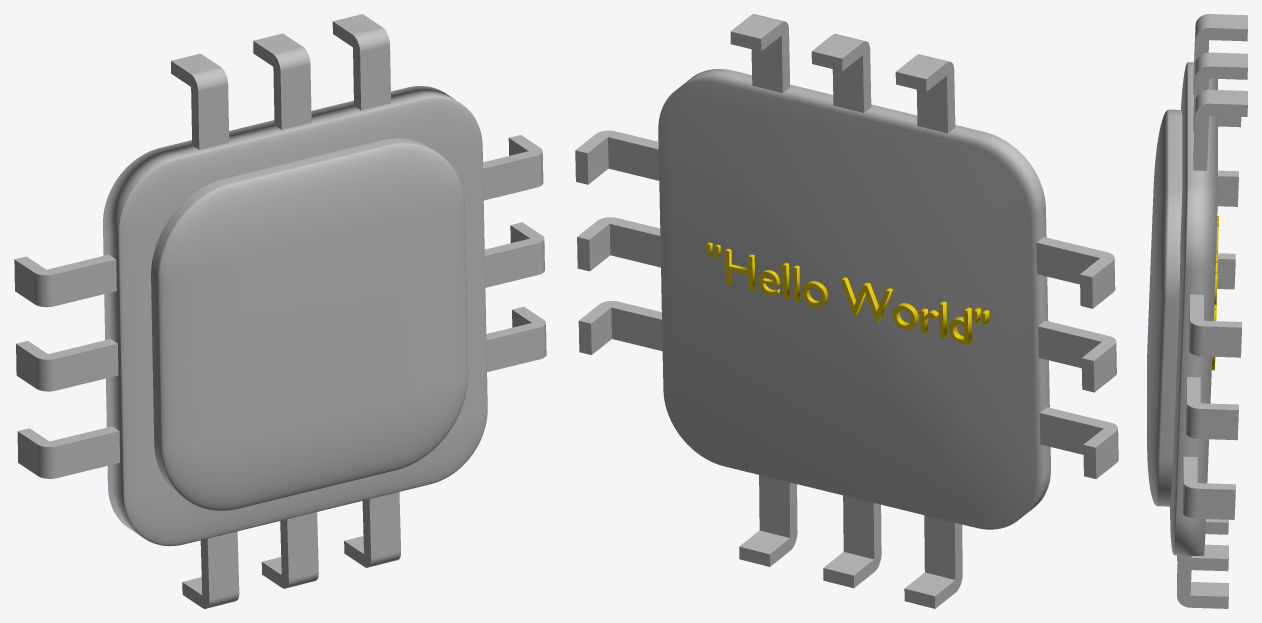
Rendered from cpu.glb.
3 renders of one model, left to right at view 1: azimuth 30°, elevation 25°; view 2: azimuth 150°, elevation 25°; view 3: azimuth 270°, elevation 25°, orthographic. The views are drawn at different scales.
Visible parts, largest first — view 1: Cube; view 2: Cube, Text; view 3: Cube, Text.
Part boxes in pixels (left/top/right/bottom): Cube: left=14, top=14, right=546, bottom=608; Cube: left=575, top=14, right=1118, bottom=608; Text: left=706, top=242, right=989, bottom=344; Cube: left=1147, top=14, right=1247, bottom=608; Text: left=1212, top=216, right=1218, bottom=370.
Size of the model in its own units: 2.78 by 2.77 by 0.5008.
